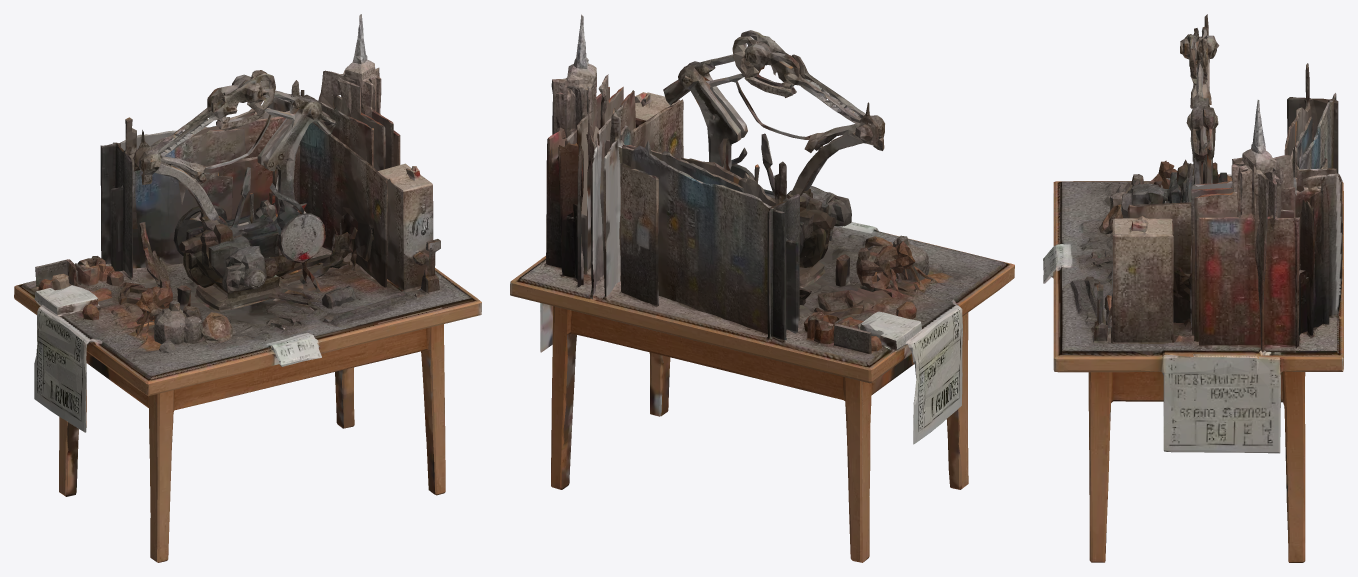
The model's file is tail (9).glb.
The picture shows the model from 3 angles, left to right: view 1: azimuth 30°, elevation 25°; view 2: azimuth 150°, elevation 25°; view 3: azimuth 270°, elevation 25°; orthographic projection. The views are drawn at different scales.
Parts seen in each view (by area): view 1: Hy21_Mesh.obj; view 2: Hy21_Mesh.obj; view 3: Hy21_Mesh.obj.
Boxes of the visible parts, box(x1,y1,x2,y2) form: Hy21_Mesh.obj: box(14, 14, 481, 562); Hy21_Mesh.obj: box(510, 14, 1014, 562); Hy21_Mesh.obj: box(1043, 14, 1343, 562).
Bounding box in the file's own units: 1.67 × 1.95 × 1.16.
Materials: 1 (1 with a texture image).
